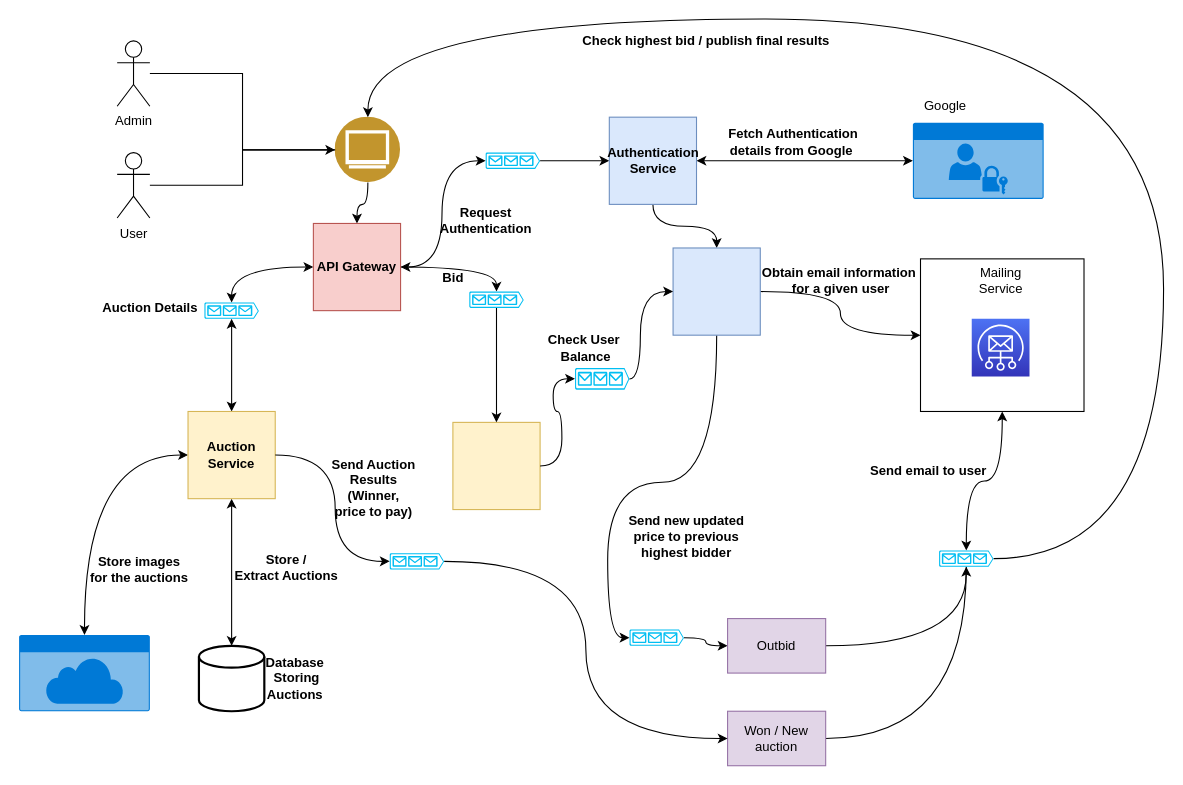
This 1183x785 diagram has some shape labels left out. The shapes that lost their labels are listed below. From the top down, each one's centre as x and y in pixels, then its label:
At (x=977, y=160): "Login".
At (x=716, y=291): "User Service".
At (x=496, y=465): "Make Bid Service".
At (x=84, y=672): "Cloud".
